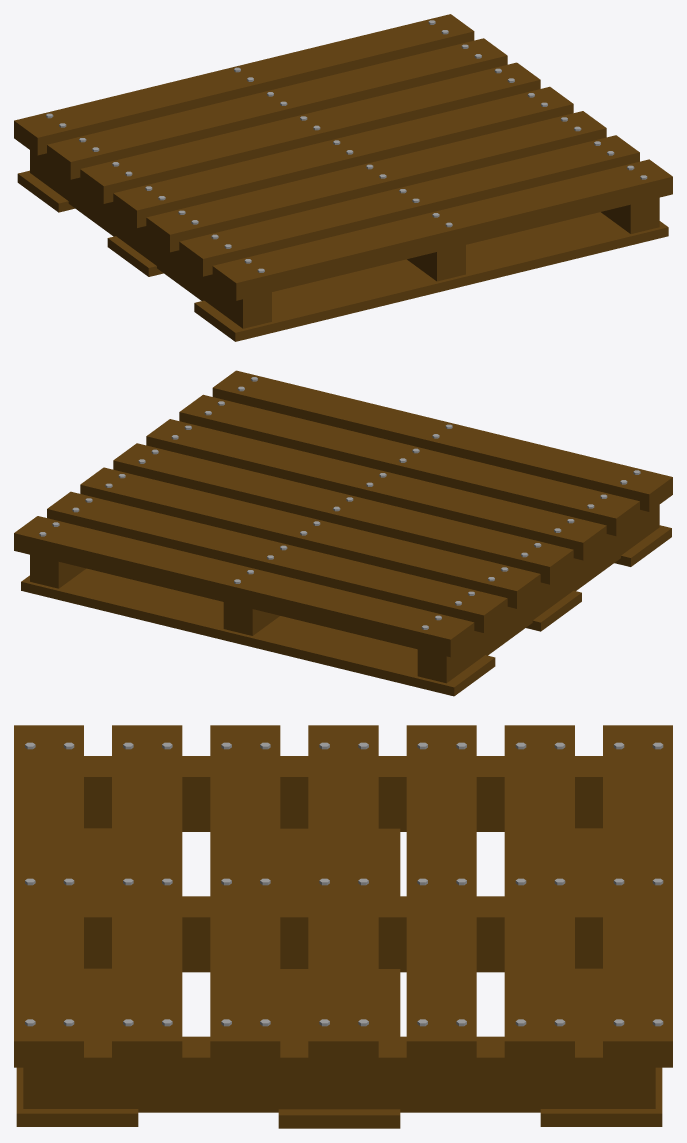
The model's file is Palette.fbx.
The picture shows the model from 3 angles, top to bottom: view 1: azimuth 30°, elevation 25°; view 2: azimuth 150°, elevation 25°; view 3: azimuth 270°, elevation 25°; orthographic projection. The views are drawn at different scales.
Visible parts, largest first — view 1: WoodPalette; view 2: WoodPalette; view 3: WoodPalette.
Boxes of the visible parts, x1,y1,x2,y2 form: WoodPalette: (14, 14, 672, 341); WoodPalette: (14, 370, 672, 696); WoodPalette: (14, 725, 672, 1128).
Bounding box in the file's own units: 133 × 17.97 × 117.
